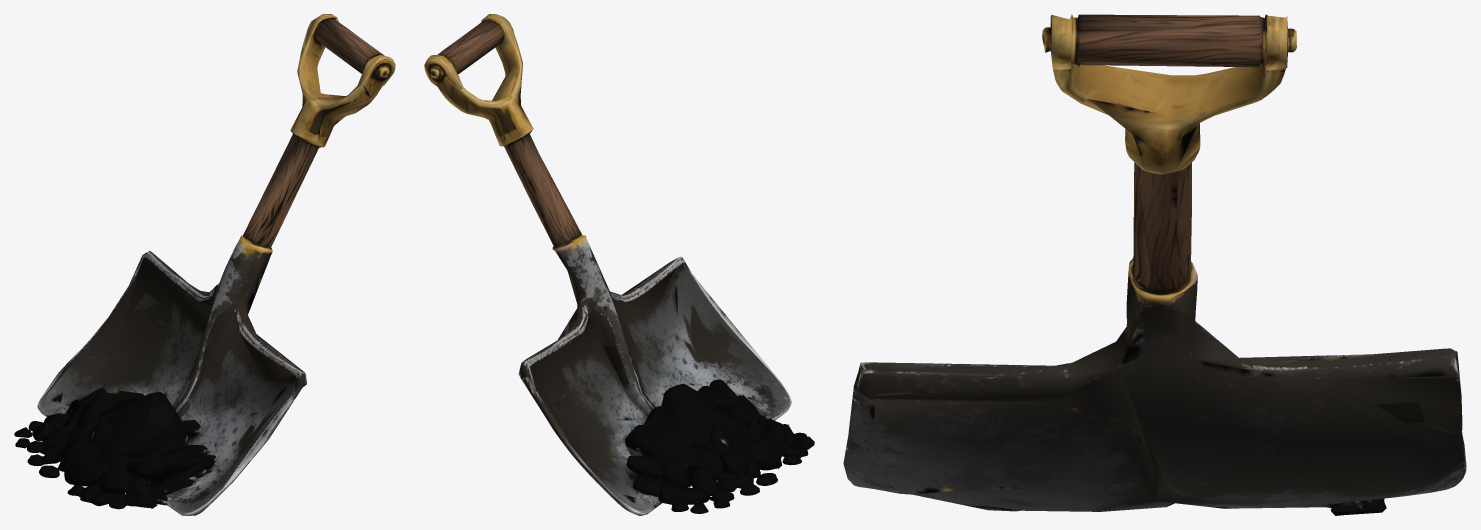
Rendered from lhi_coal_shovel.glb.
3 renders of one model, left to right at view 1: azimuth 30°, elevation 25°; view 2: azimuth 150°, elevation 25°; view 3: azimuth 270°, elevation 25°, orthographic. The views are drawn at different scales.
Visible parts, largest first — view 1: material; view 2: material; view 3: material.
Boxes of the visible parts, x1,y1,x2,y2 form: material: (14,14,395,515); material: (424,14,814,515); material: (843,14,1466,515).
Size of the model in its own units: 0.7958 by 0.866 by 0.6978.
Materials: 1 (1 with a texture image).
